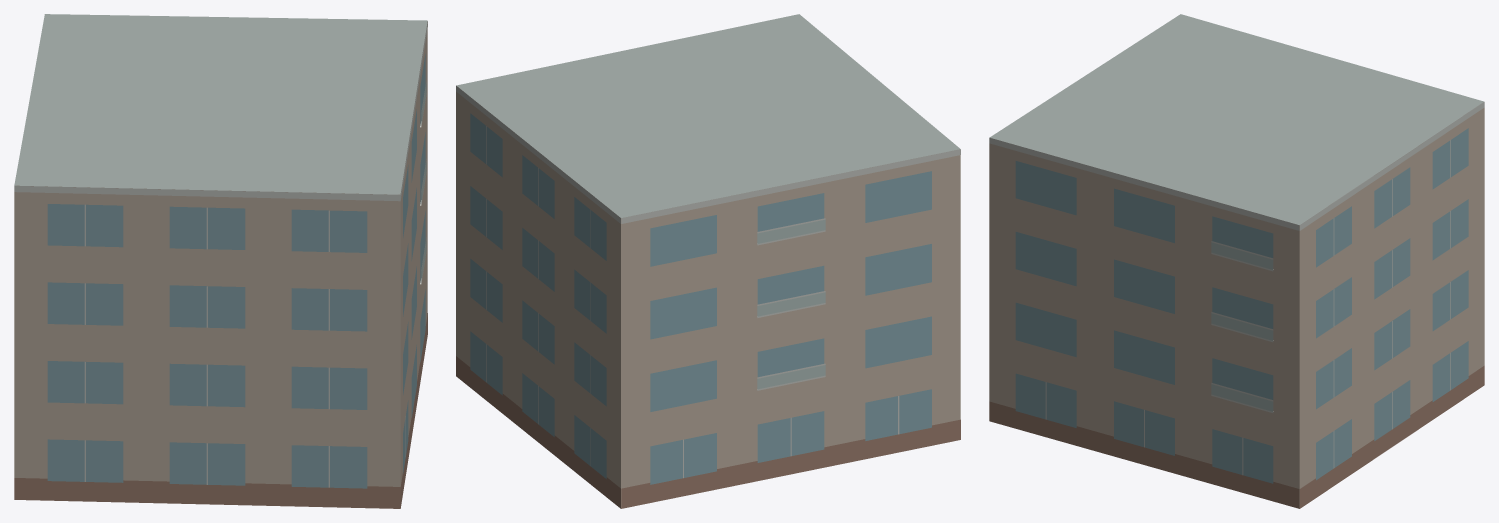
Rendered from survey-upis-32486707.glb.
The picture shows the model from 3 angles, left to right: view 1: azimuth 30°, elevation 25°; view 2: azimuth 150°, elevation 25°; view 3: azimuth 270°, elevation 25°; orthographic projection. The views are drawn at different scales.
Visible parts, largest first — view 1: survey-upis-32486707.tmp; view 2: survey-upis-32486707.tmp; view 3: survey-upis-32486707.tmp.
Part boxes in pixels (x1,y1,x2,y2): survey-upis-32486707.tmp: [14, 14, 427, 508]; survey-upis-32486707.tmp: [456, 14, 960, 508]; survey-upis-32486707.tmp: [989, 14, 1484, 508].
Size of the model in its own units: 19.01 by 11.9 by 18.83.
